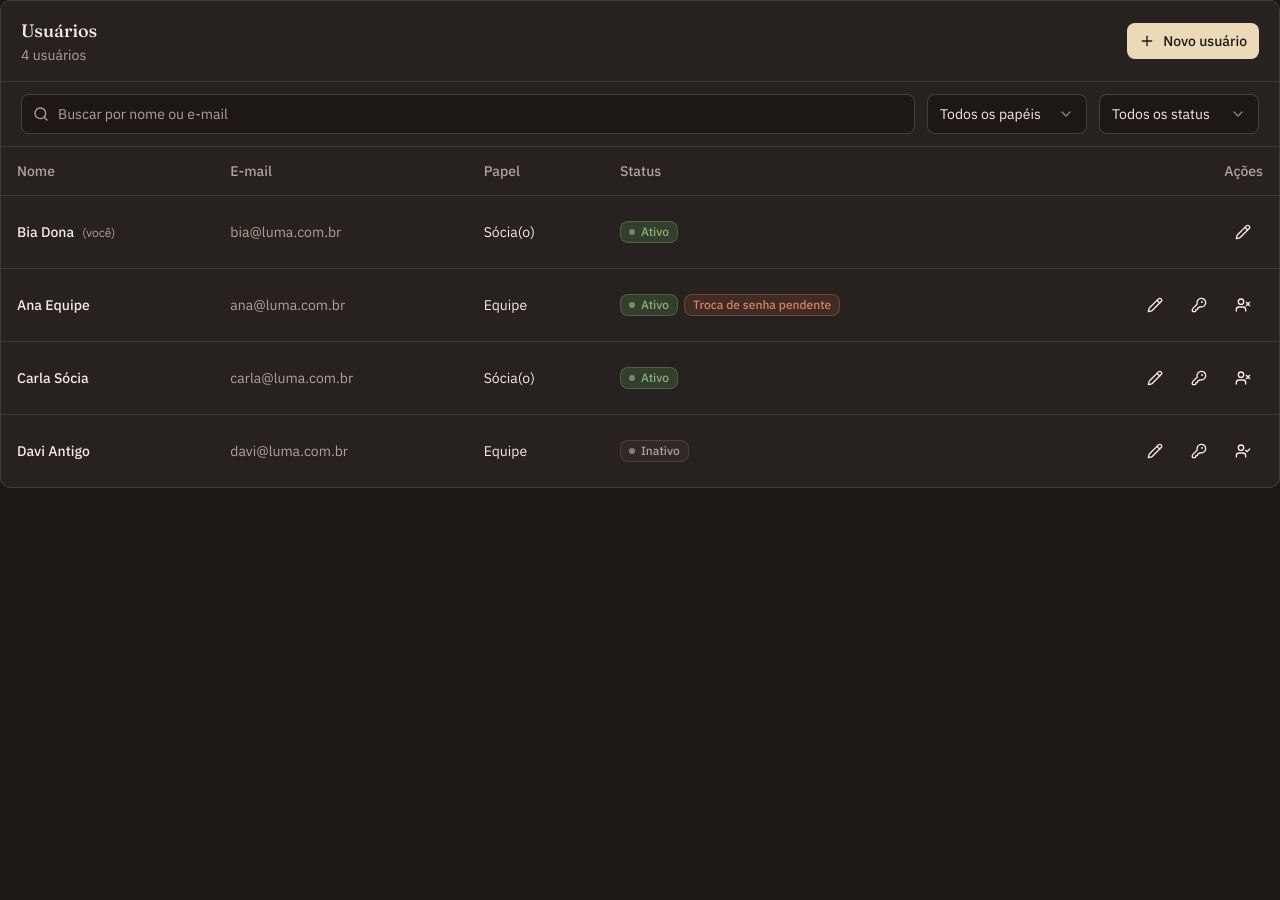
Test: users tab › hides role, deactivation and password reset on the owner's own account
Expected: the text "Bia Dona" is shown, [17, 222, 74, 240]
Expected: the text "(você)" is shown, [82, 224, 115, 240]
Click the button named "Editar Bia Dona" at (1243, 232), box [1223, 212, 1263, 252]
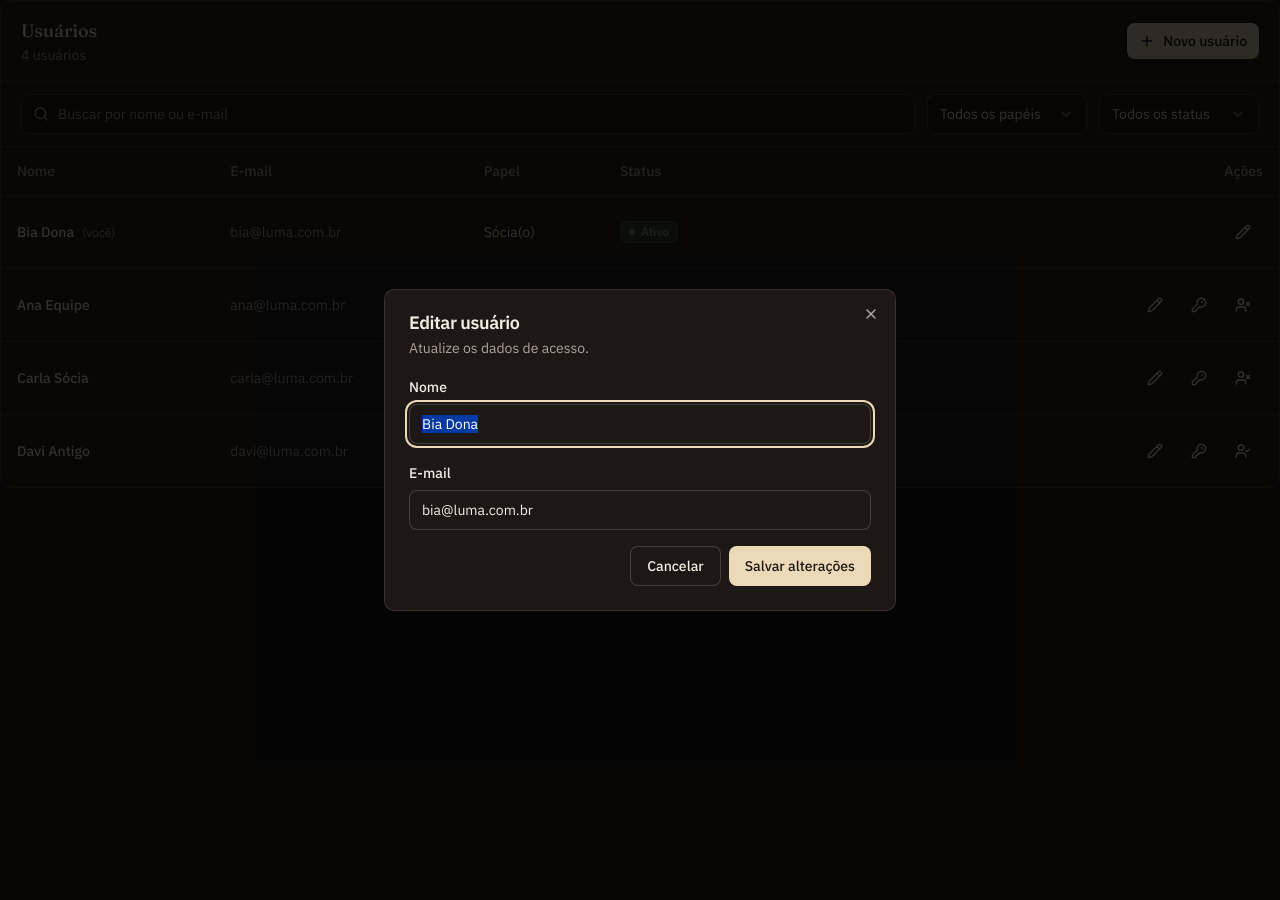
Expected: the field labelled "E-mail" holds "bia@luma.com.br", [409, 490, 871, 530]
